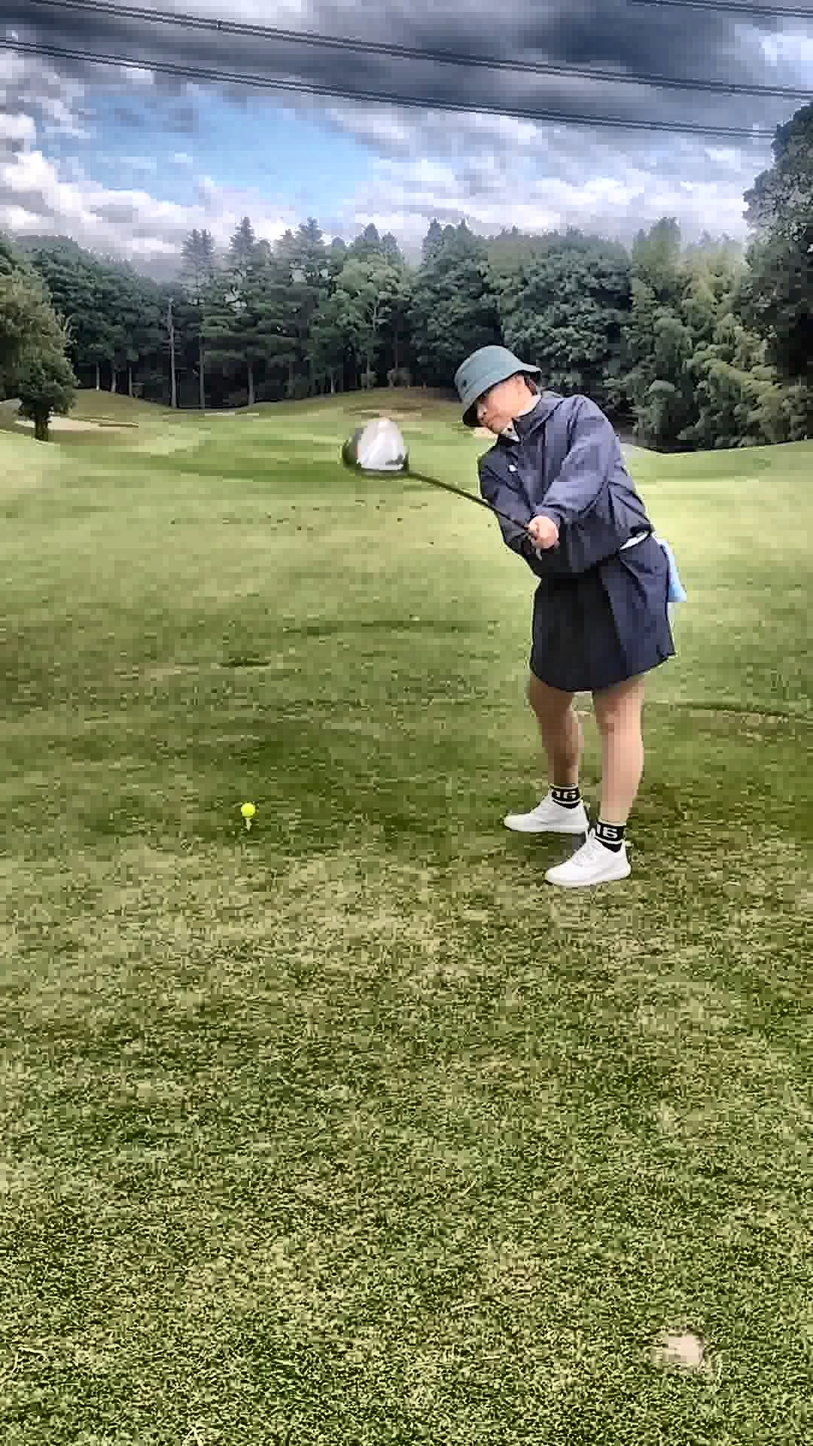clubhead: (236, 335, 511, 587)
